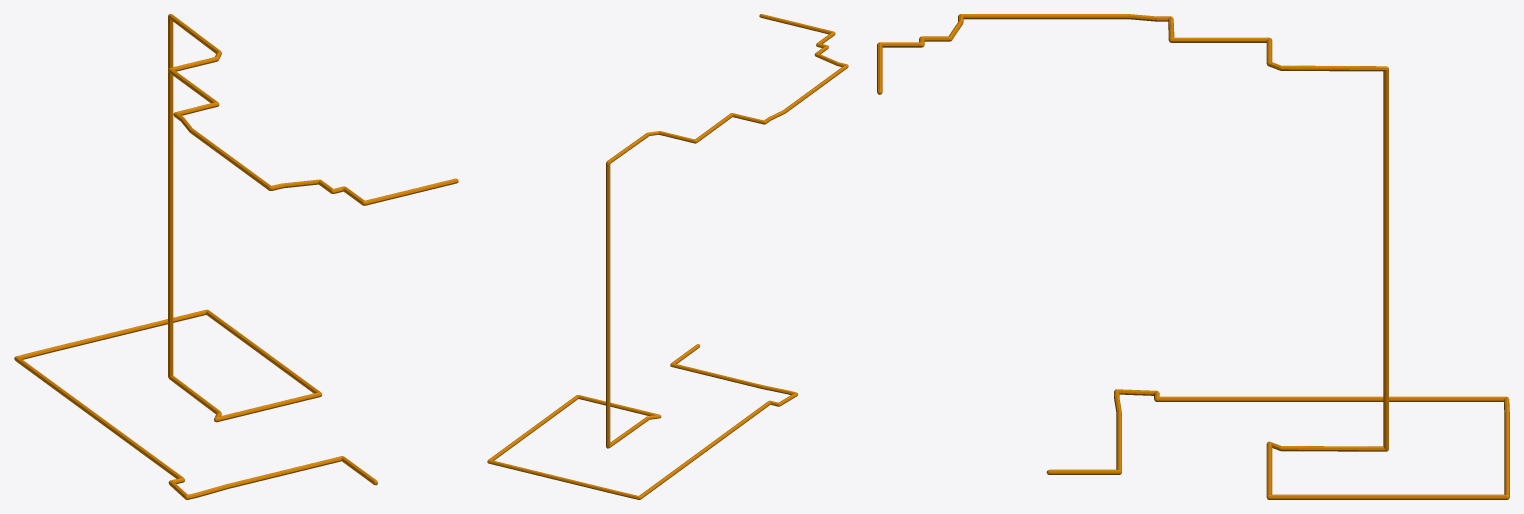
3 renders of one model, left to right at view 1: azimuth 30°, elevation 25°; view 2: azimuth 150°, elevation 25°; view 3: azimuth 270°, elevation 25°, orthographic. The views are drawn at different scales.
Bounding box in the file's own units: 912 × 1520 × 2263.
